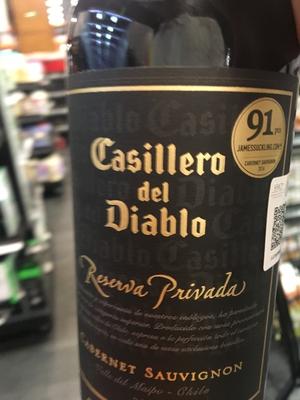casillero del diablo reserva privada cabernet sauvignon: (68, 24, 293, 400)
